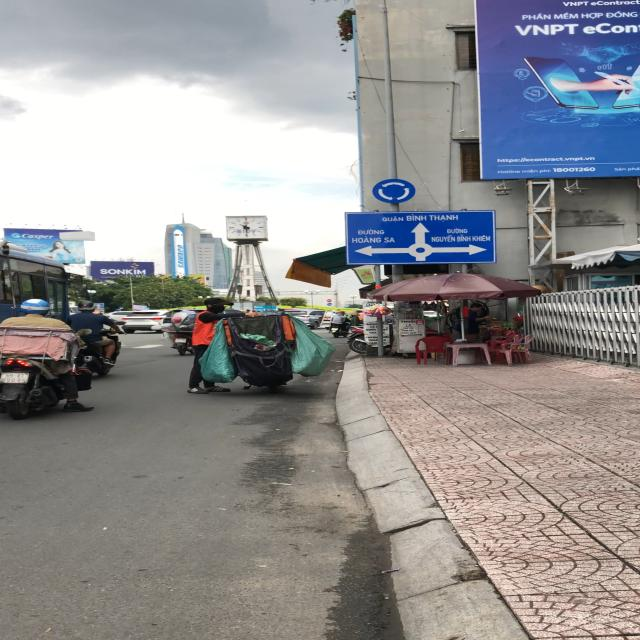Bien bao noi giao nhau chay theo vong xuyen: (370, 178, 421, 205)
